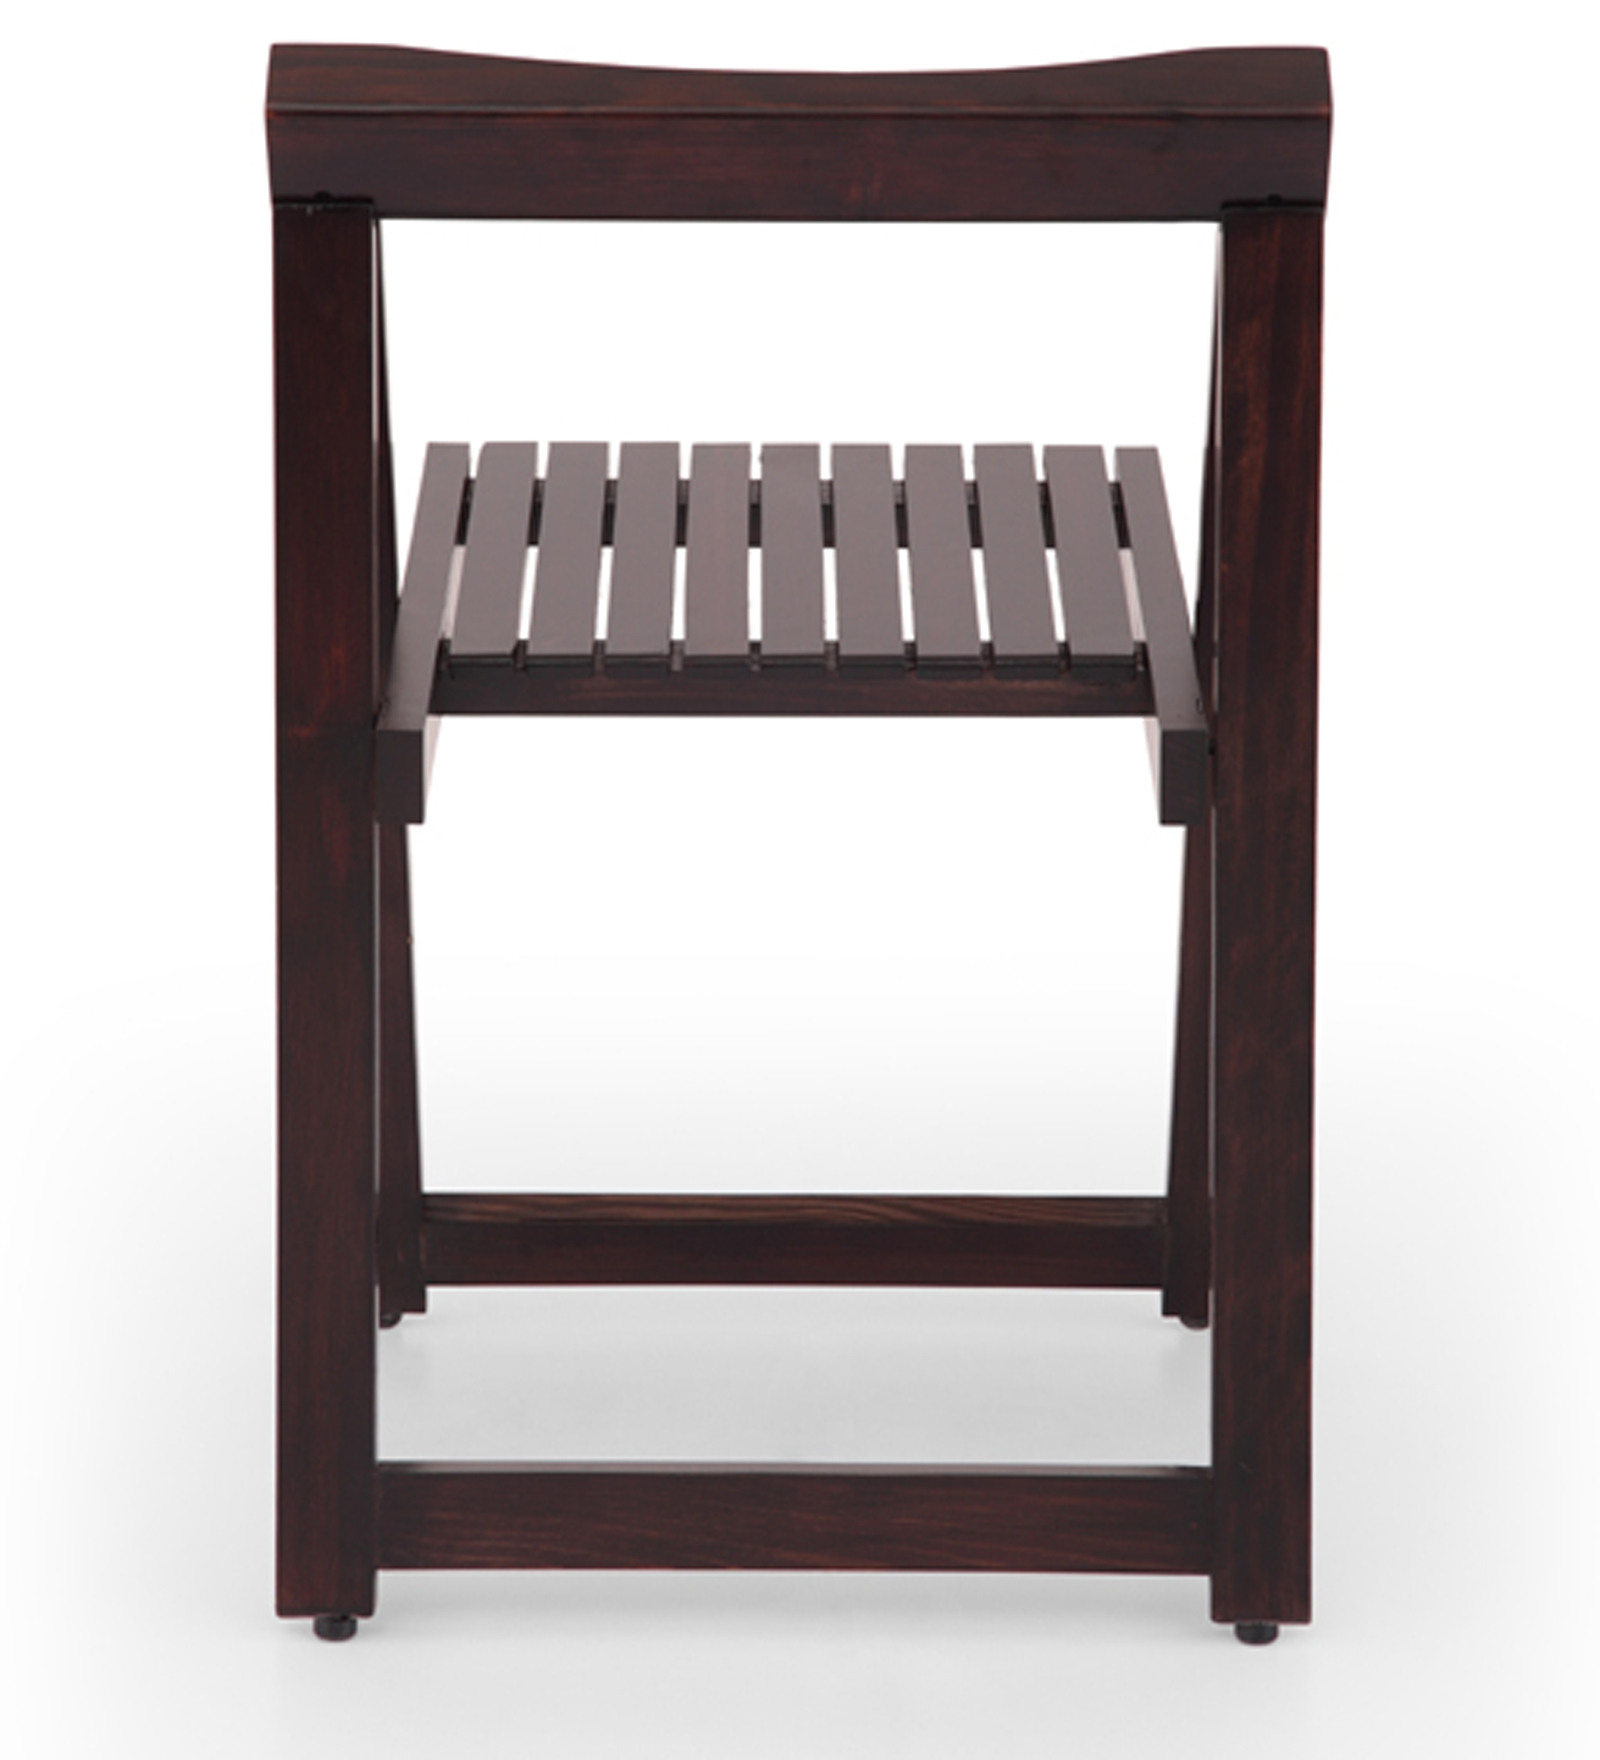Foldable Dining Chair in Ebony Finish by Ekbote Furniture: (215, 26, 1358, 1693)
